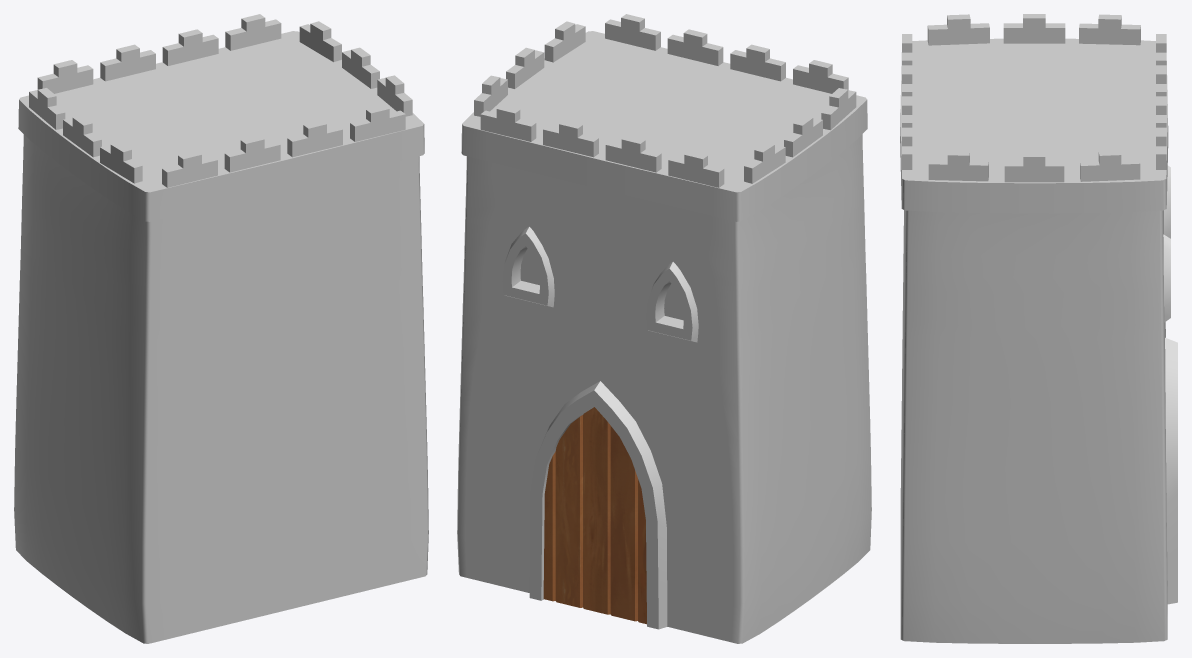
The model's file is Najdi_Base_A01.fbx.
3 renders of one model, left to right at view 1: azimuth 30°, elevation 25°; view 2: azimuth 150°, elevation 25°; view 3: azimuth 270°, elevation 25°, orthographic. The views are drawn at different scales.
Visible parts, largest first — view 1: Najdi_Base_A01; view 2: Najdi_Base_A01; view 3: Najdi_Base_A01.
Part boxes in pixels (x1,y1,x2,y2): Najdi_Base_A01: (14,14,428,643); Najdi_Base_A01: (457,14,871,643); Najdi_Base_A01: (900,14,1177,643).
Bounding box in the file's own units: 1044 × 832 × 1603.
